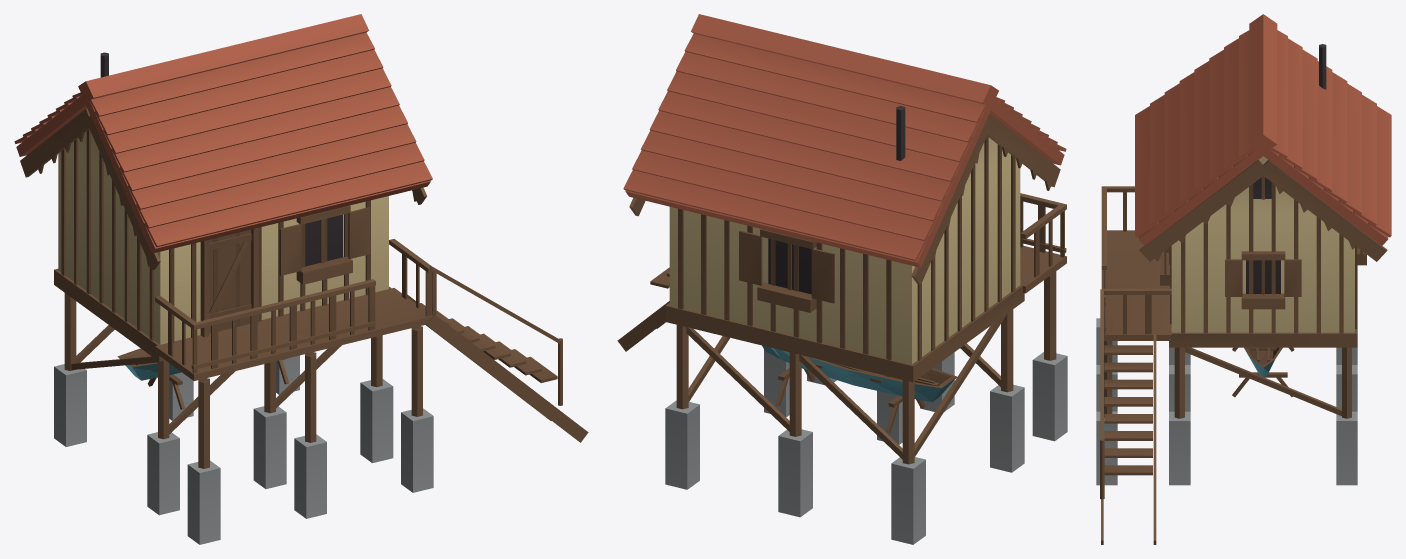
The model's file is cabin_2.glb.
3 views of the same model, side by side, from view 1: azimuth 30°, elevation 25°; view 2: azimuth 150°, elevation 25°; view 3: azimuth 270°, elevation 25° (orthographic). The views are drawn at different scales.
Visible parts, largest first — view 1: cabin_2; view 2: cabin_2; view 3: cabin_2.
Boxes of the visible parts, <box> form: cabin_2: <box>14,14,588,544</box>; cabin_2: <box>617,14,1067,544</box>; cabin_2: <box>1096,14,1391,544</box>.
Size of the model in its own units: 7.93 by 7.36 by 5.48.
